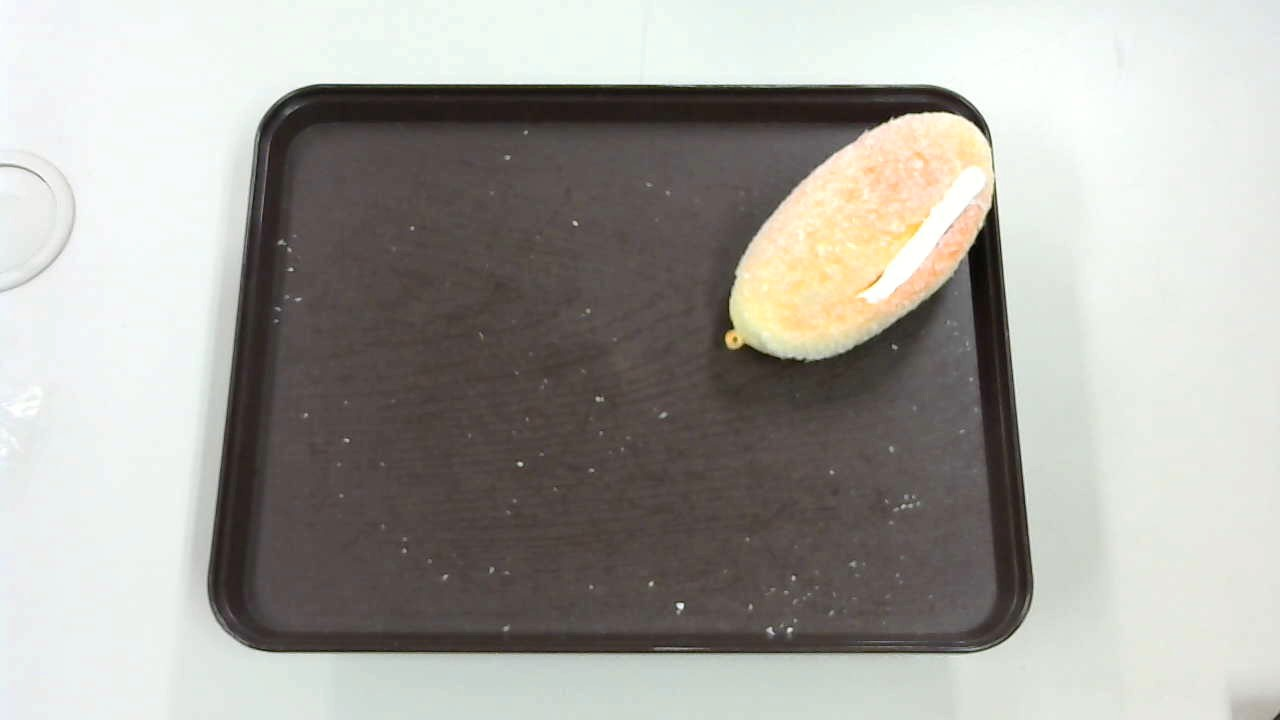coconut: (724, 112, 994, 363)
